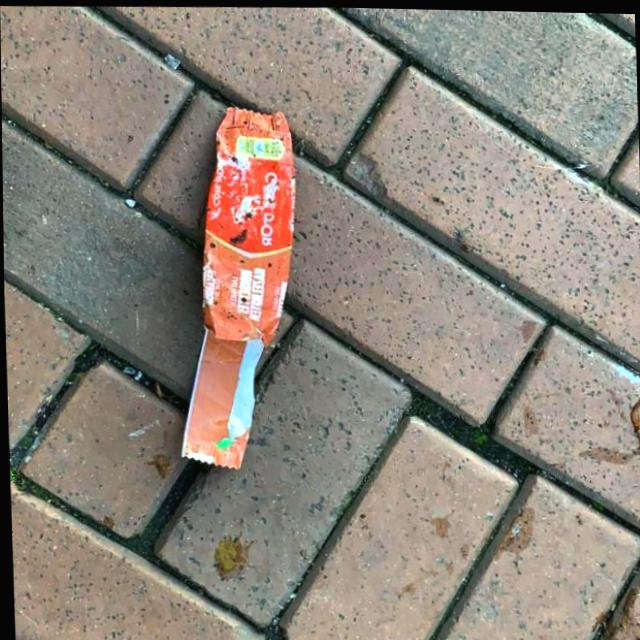Plastic: (164, 101, 304, 475)
